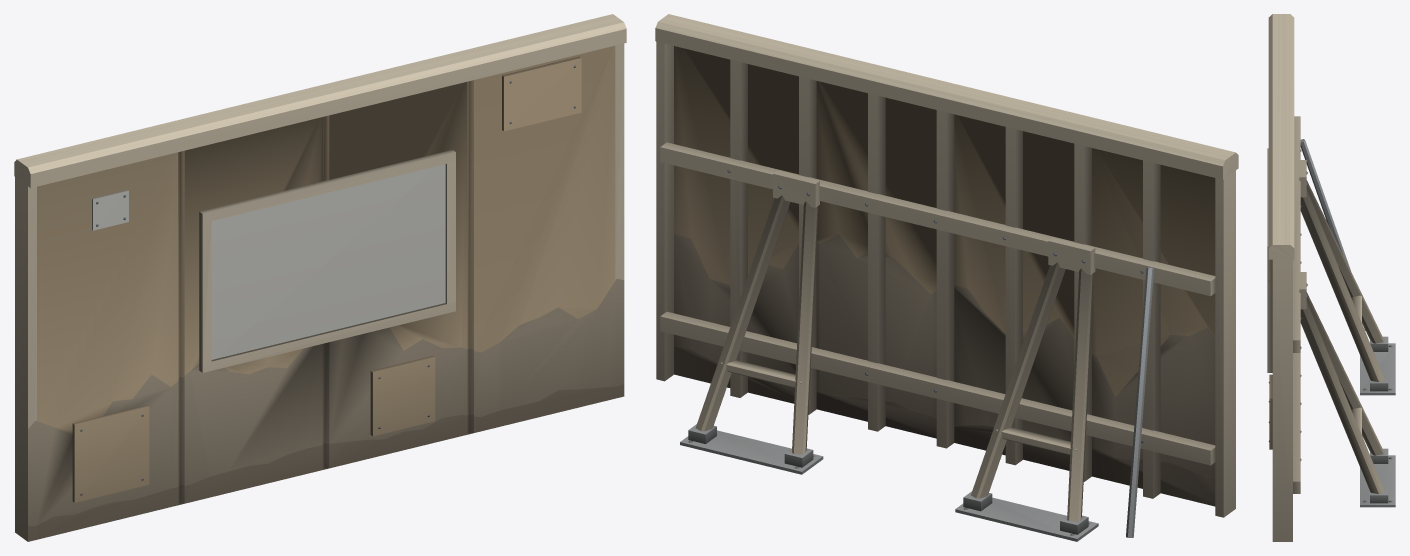
The model's file is hoarding.glb.
3 renders of one model, left to right at view 1: azimuth 30°, elevation 25°; view 2: azimuth 150°, elevation 25°; view 3: azimuth 270°, elevation 25°, orthographic. The views are drawn at different scales.
Parts seen in each view (by area): view 1: hoarding; view 2: hoarding; view 3: hoarding.
Part boxes in pixels (box(x1,y1,x2,y2)): hoarding: box(14, 14, 626, 541); hoarding: box(655, 14, 1238, 541); hoarding: box(1267, 14, 1395, 541).
Size of the model in its own units: 4 by 2.4 by 0.938.
